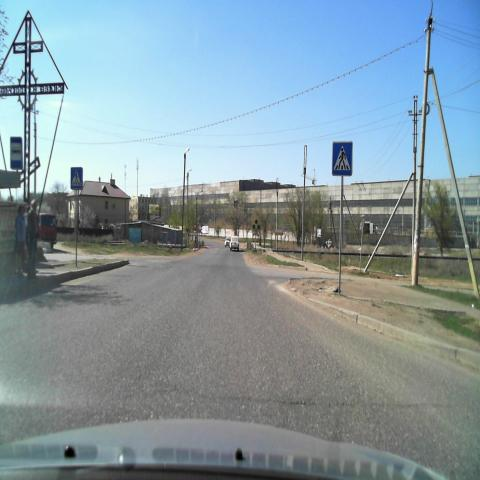5_16: (11, 137, 23, 169)
5_19_1: (332, 141, 352, 176), (71, 166, 83, 188)
